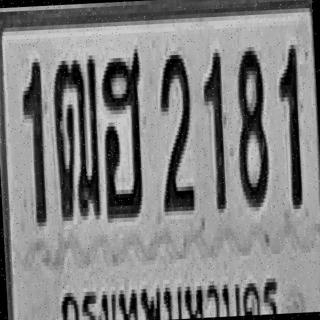A18: (51, 55, 103, 221)
A44: (98, 47, 148, 221)
N01: (20, 58, 48, 227), (276, 41, 304, 210), (200, 48, 228, 214)
N02: (156, 50, 197, 212)
N08: (232, 46, 270, 208)
